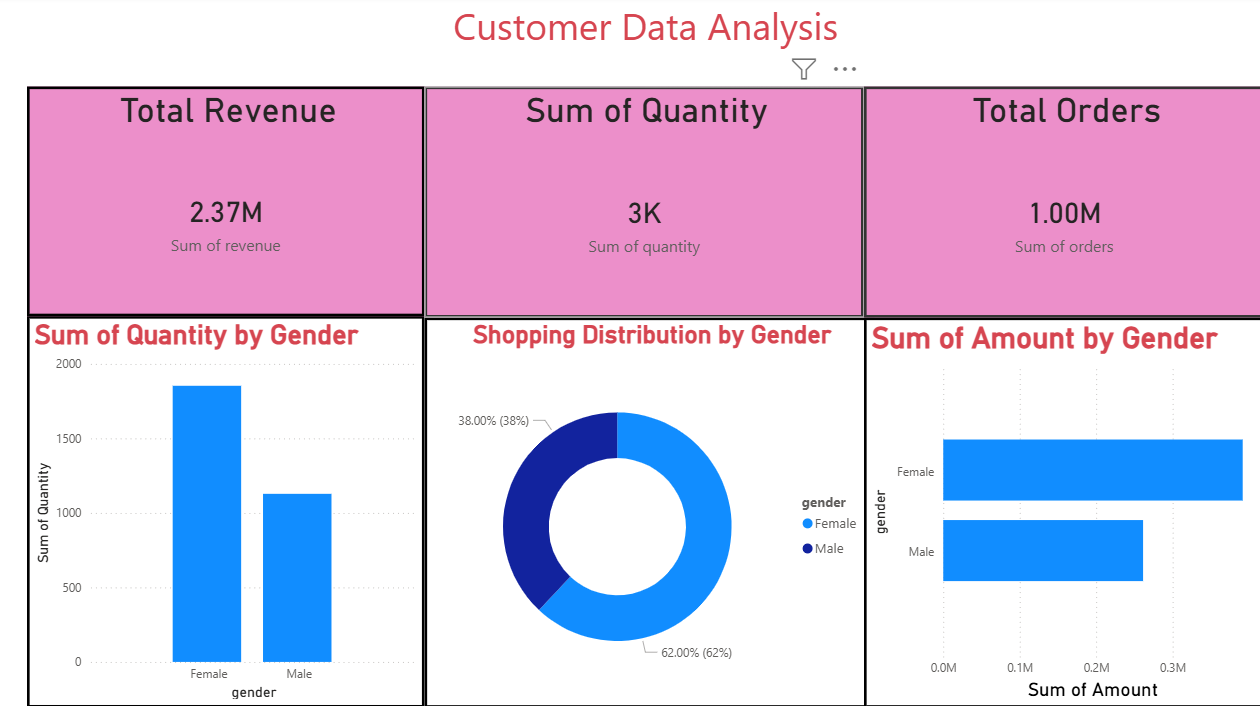

What the dashboard file says about the page in this screenshot:
{"tool":"powerbi","page":{"name":"Page 1","canvas":[1280,720],"ordinal":0},"visuals":[{"type":"columnChart","title":"Sum of Quantity by Gender","fields":{"Category":["project1.gender"],"Y":["Sum(project1.quantity)"]},"box":[30.3,324,401.3,395.2],"z":0},{"type":"donutChart","title":"Shopping Distribution by Gender","fields":{"Category":["project1.gender"],"Y":["Sum(project1.price)"]},"box":[431.5,325.6,454.3,393.7],"z":1000},{"type":"barChart","title":"Sum of Amount by Gender","fields":{"Category":["project1.gender"],"Y":["Sum(project1.price)"]},"box":[875.2,325.6,404.3,393.7],"z":2000},{"type":"card","title":"Total Revenue","fields":{"Values":["Sum(project1.revenue)"]},"box":[30.3,92.4,401.3,231.7],"z":3000},{"type":"card","title":"Sum of Quantity","fields":{"Values":["Sum(project1.quantity)"]},"box":[431.5,92.4,443.7,233.2],"z":4000},{"type":"card","title":"Total Orders","fields":{"Values":["Sum(project1.orders)"]},"box":[875.2,92.4,404.3,233.2],"z":5000},{"type":"textbox","box":[30.3,0,1249.2,62.1],"z":6000}]}

Visuals, with their boxes in screenshot pixels (x1, y1, x2, y2), scaled from the page's 1280x720 canvas onto the 1260x706 screenshot:
"Sum of Quantity by Gender" columnChart: box(30, 318, 425, 705)
"Shopping Distribution by Gender" donutChart: box(425, 319, 872, 705)
"Sum of Amount by Gender" barChart: box(862, 319, 1259, 705)
"Total Revenue" card: box(30, 91, 425, 318)
"Sum of Quantity" card: box(425, 91, 862, 319)
"Total Orders" card: box(862, 91, 1259, 319)
textbox: box(30, 0, 1259, 61)
